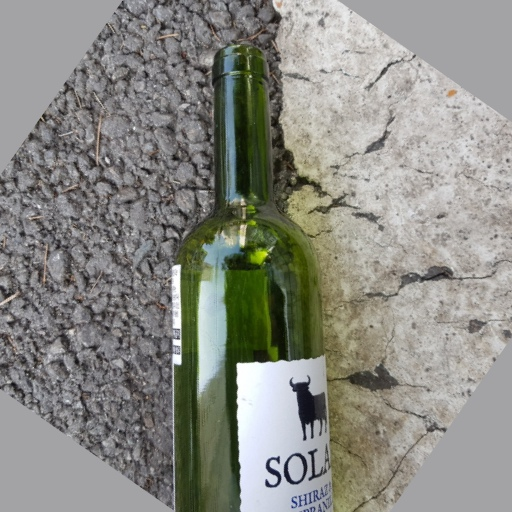Glass_2: (167, 41, 335, 512)
